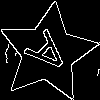A: (22, 28, 79, 85)
